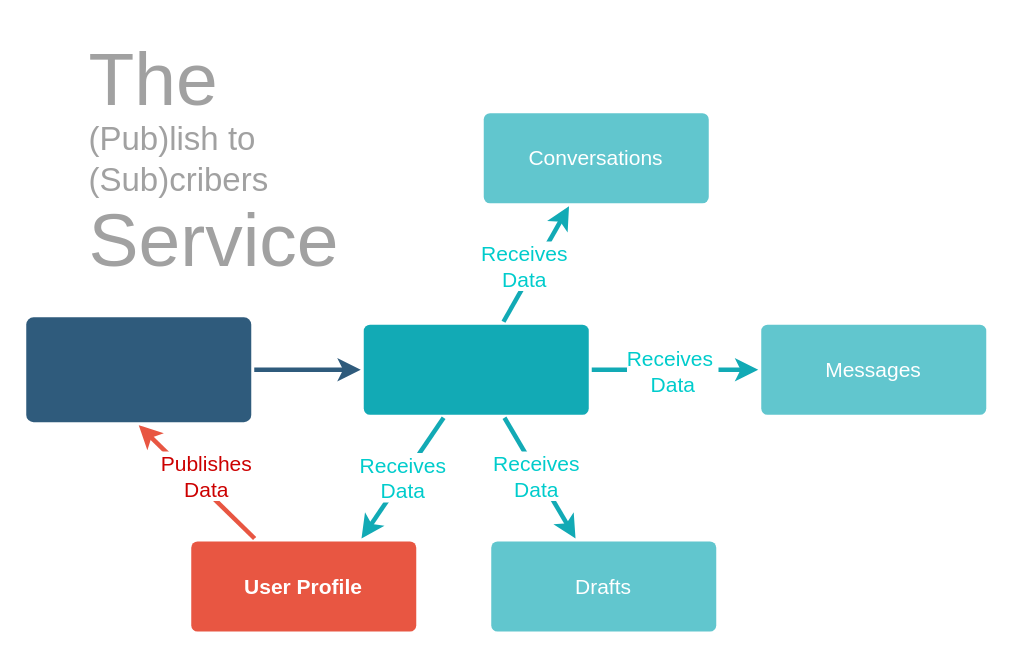
Some shapes in this 1011 by 657 pixel diagram are drawn without their labels. Here are the shapes that lost their labels. From the top down, the box of each, then its label:
(26, 316, 250, 422): Subscriber.js
(363, 324, 588, 414): Subscribers
